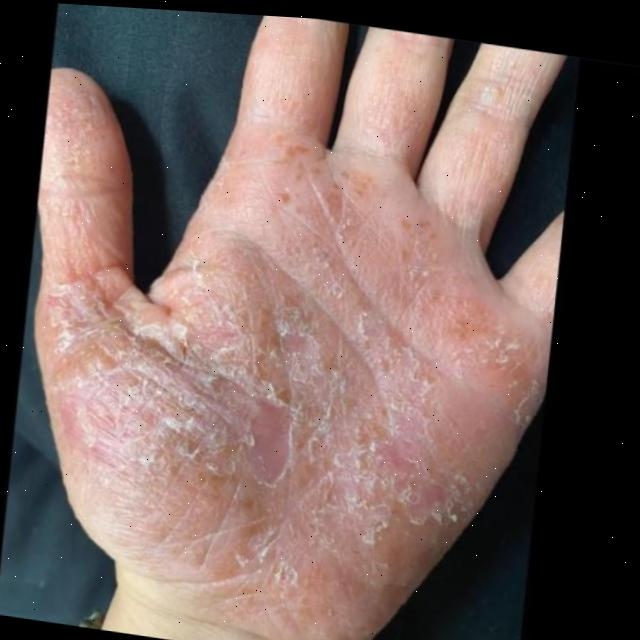Eczema: (45, 140, 484, 640)
